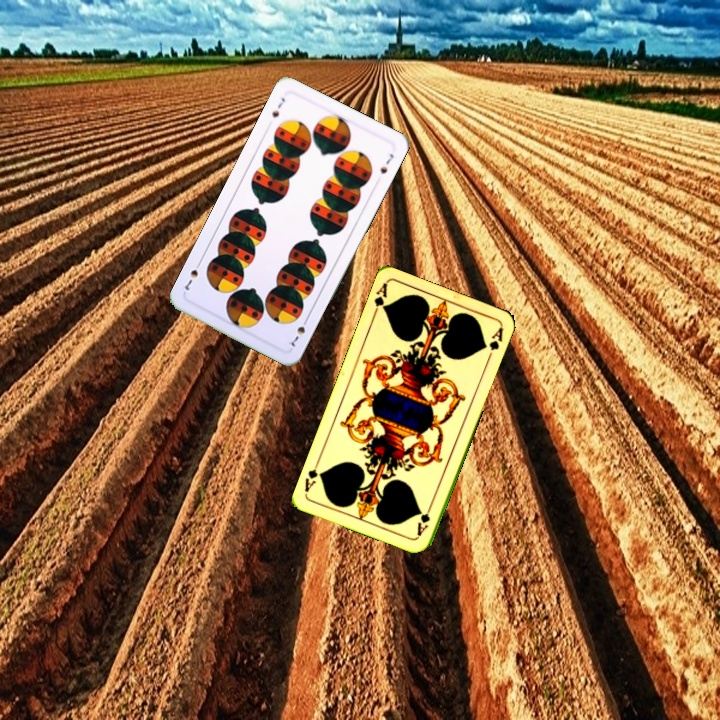GA: (413, 499, 435, 539), (369, 280, 390, 320)
S7: (284, 313, 311, 349), (268, 93, 288, 120)
